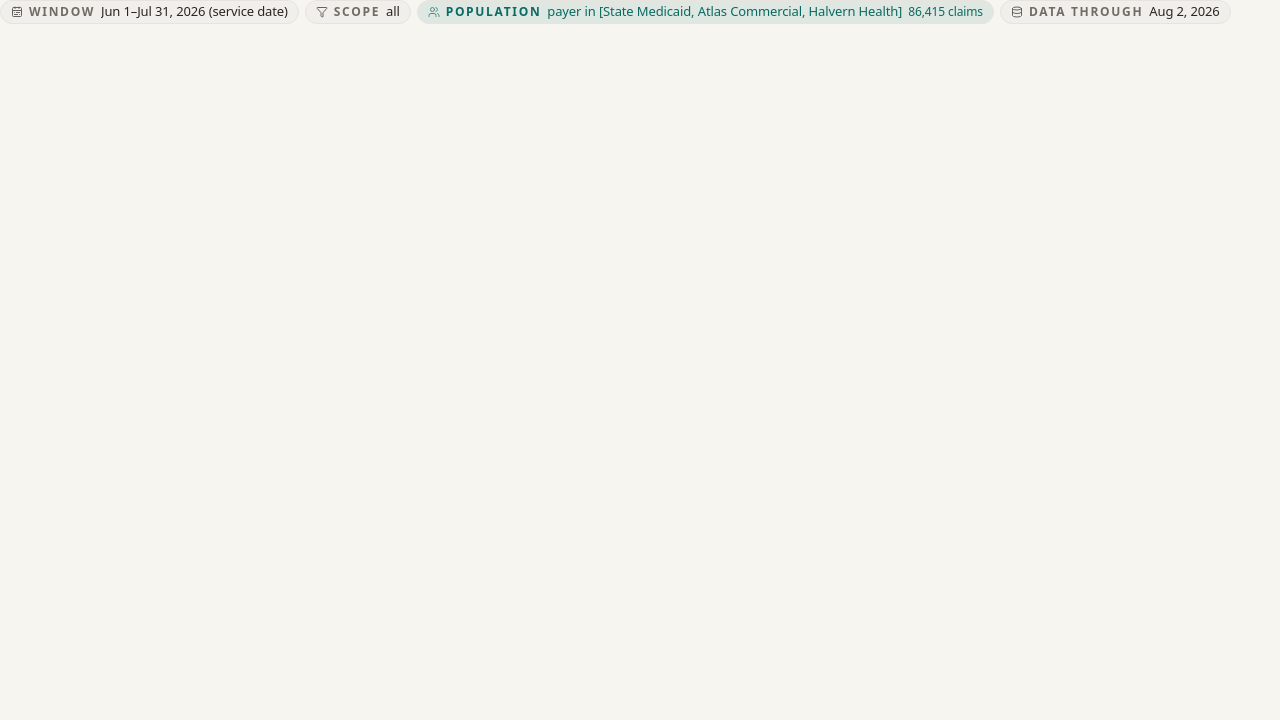
Test case: ContextHeader — the cohort chip › keeps the hash reachable as a debugging handle, not as a name
Click the button "Population": click(705, 12) [417,0,994,24]
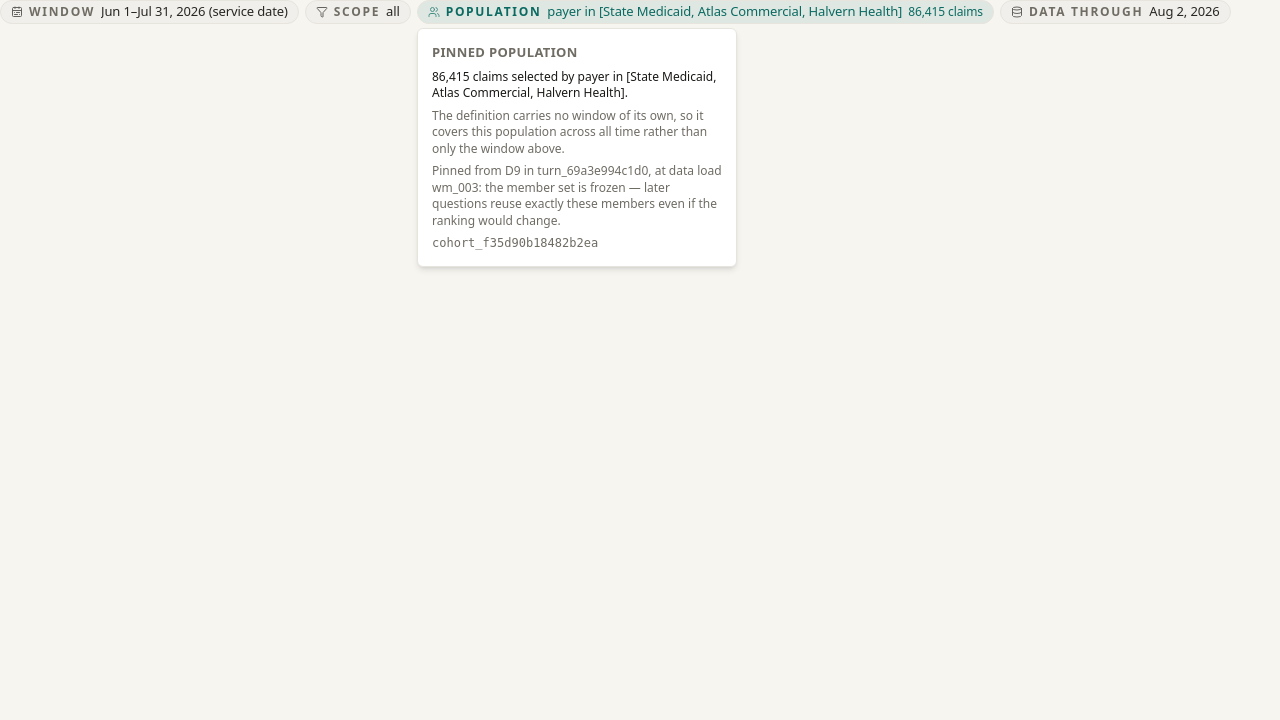
Expected: the text "cohort_f35d90b18482b2ea" is shown, [432,236,598,250]
Expected: the text "Pinned from D9 in turn_69a3e994c1d0" is shown, [432,163,722,229]
